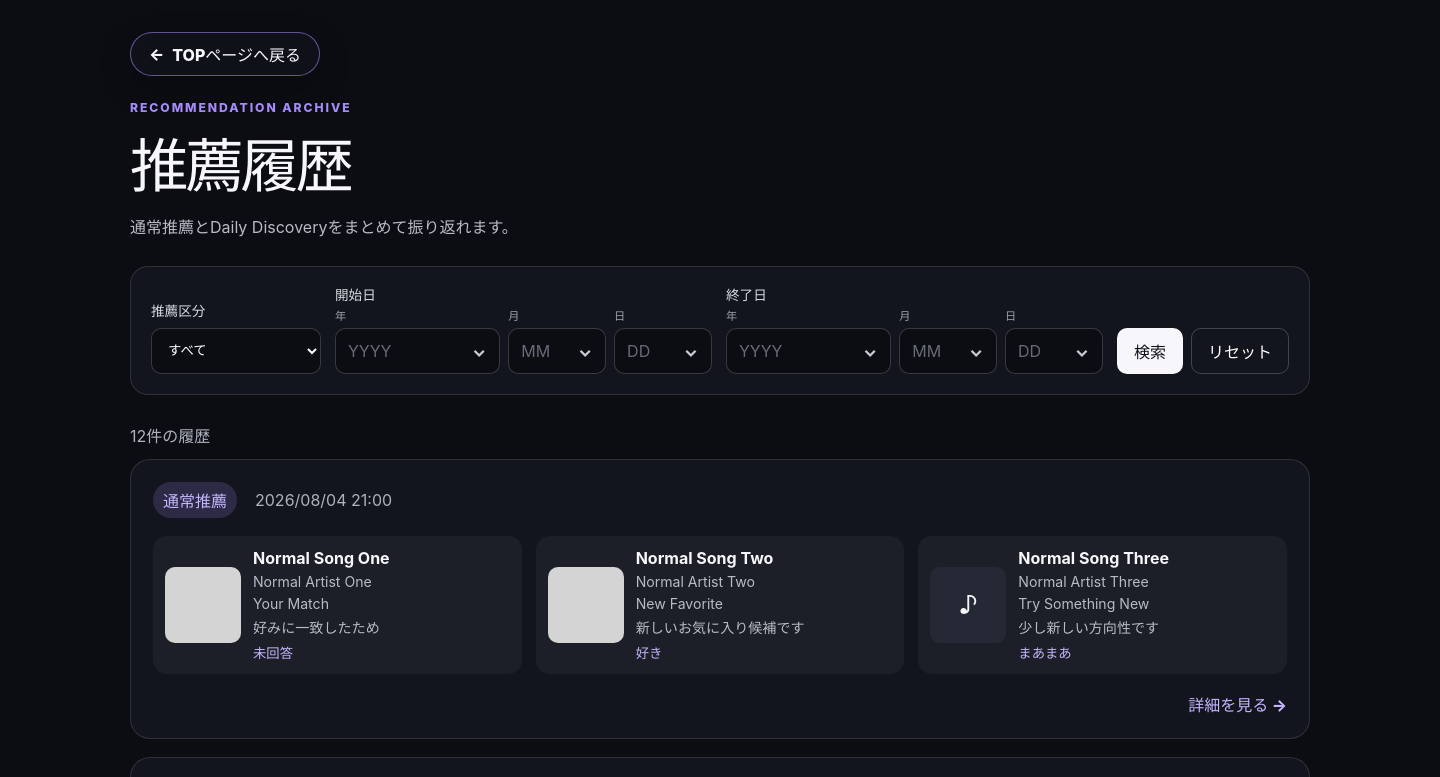
RecommendationHistoryPage › 年・月・日すべてで候補を下に表示して選択できる
Expected: the heading "Normal Song One" is shown, [253, 548, 390, 568]
Click the button named "開始日 年の候補を表示" at (479, 350), box [463, 334, 495, 366]
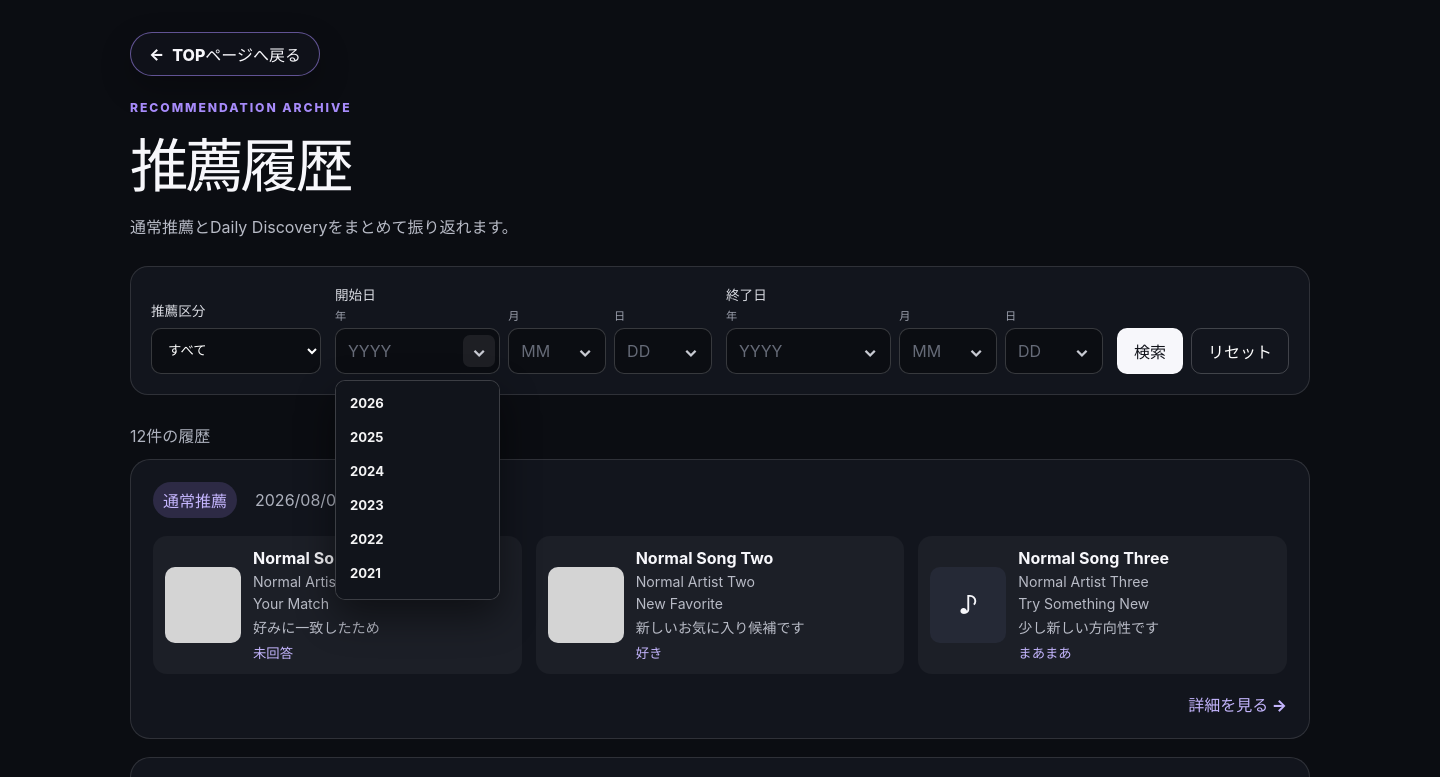
Expected: the option "2026" is shown, [341, 386, 494, 420]
Click the button named "開始日 日の候補を表示" at (691, 350), box [675, 334, 707, 366]
(page scrolled)
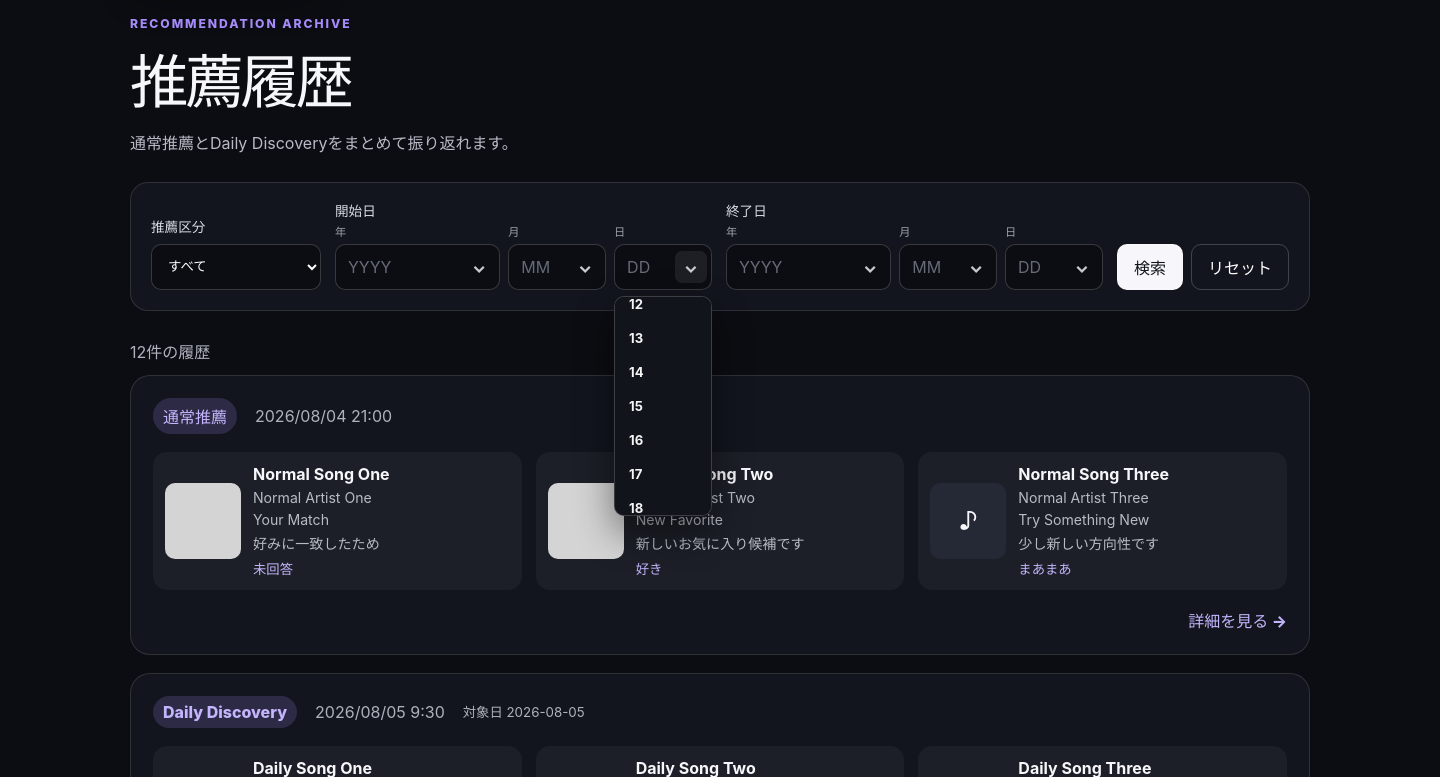
Click the option "15" at (663, 406), box [620, 388, 706, 422]
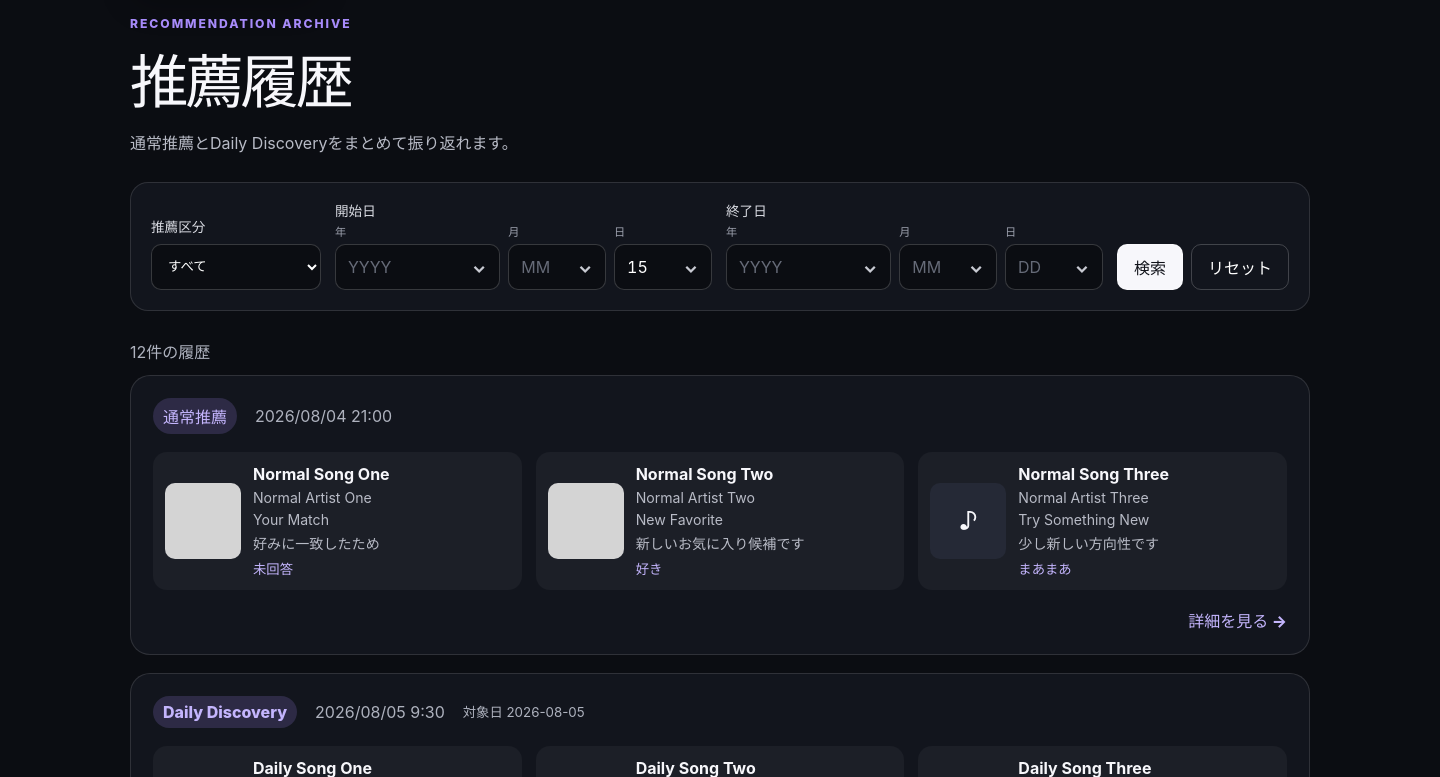
Expected: the dropdown named "開始日 日" holds "15", [614, 244, 712, 290]
